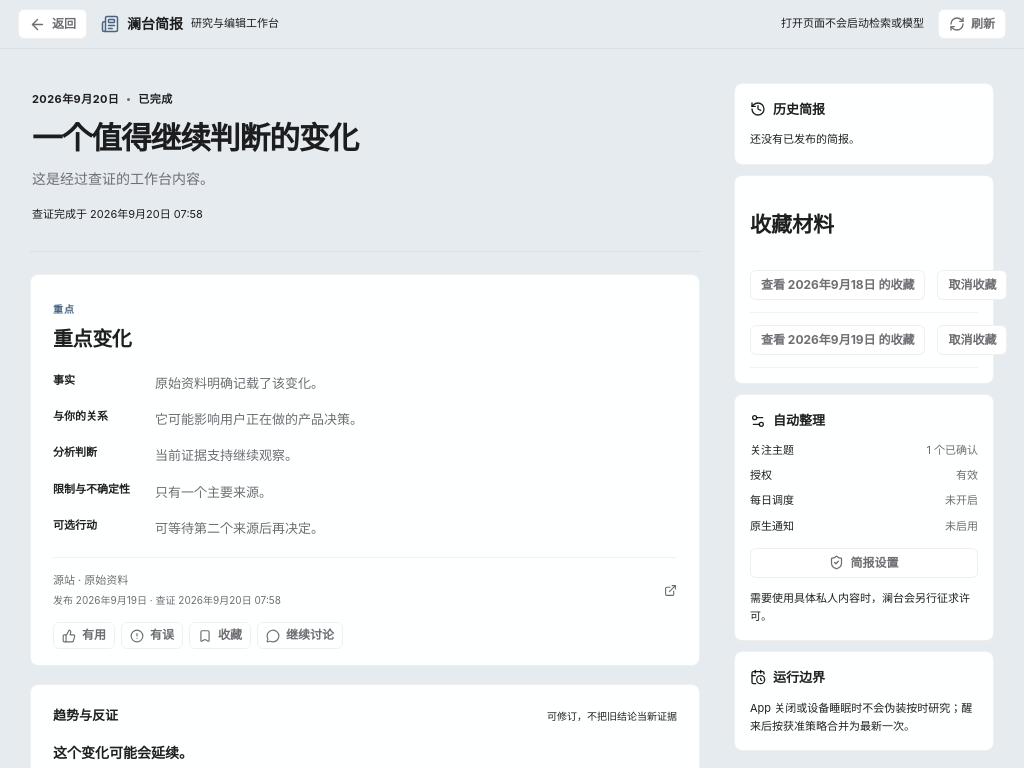
Test: DailyBriefPage › preserves the last saved selection when requests resolve out of order
The width and height of the screenshot is (1024, 768).
Click the button "查看 2026年9月18日 的收藏" at [838, 285], box x1=750 y1=270 x2=926 y2=300
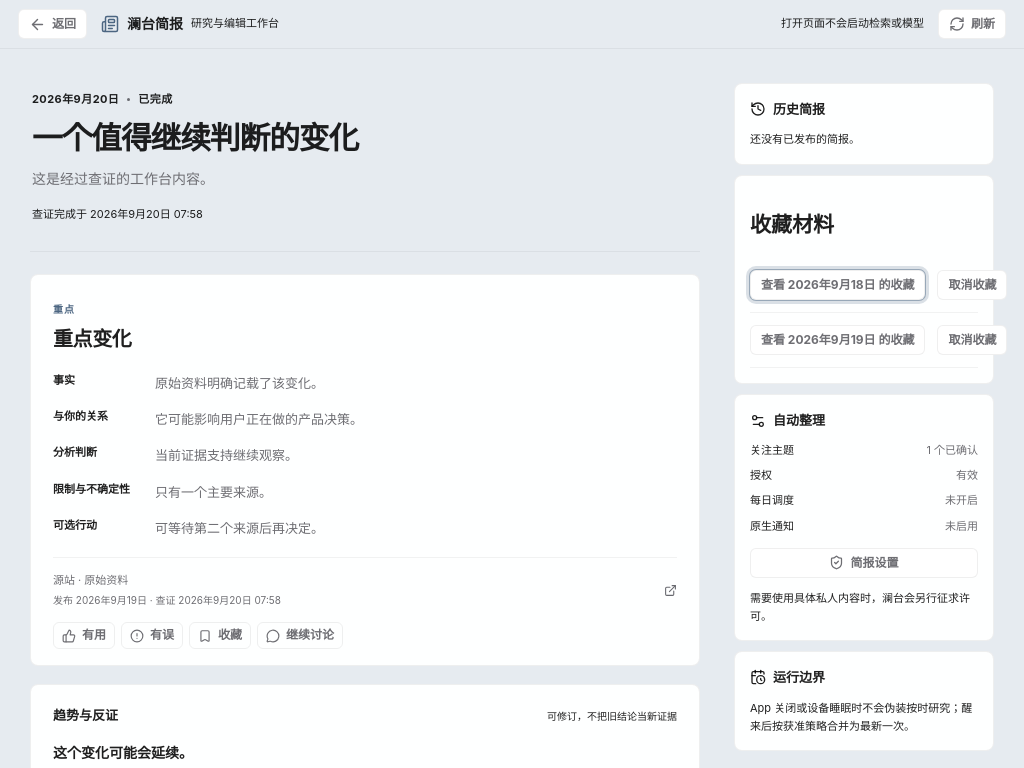
Click the button "查看 2026年9月19日 的收藏" at [838, 340], box x1=750 y1=325 x2=926 y2=355
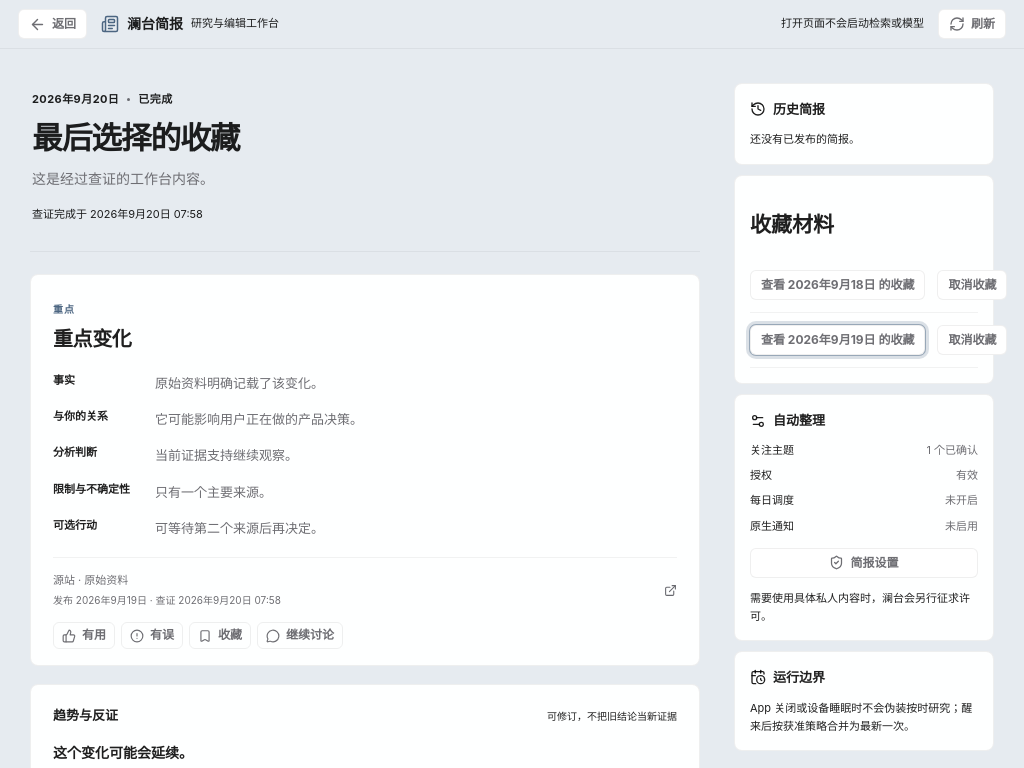
Expected: the heading "最后选择的收藏" is shown, x1=32 y1=119 x2=240 y2=156
